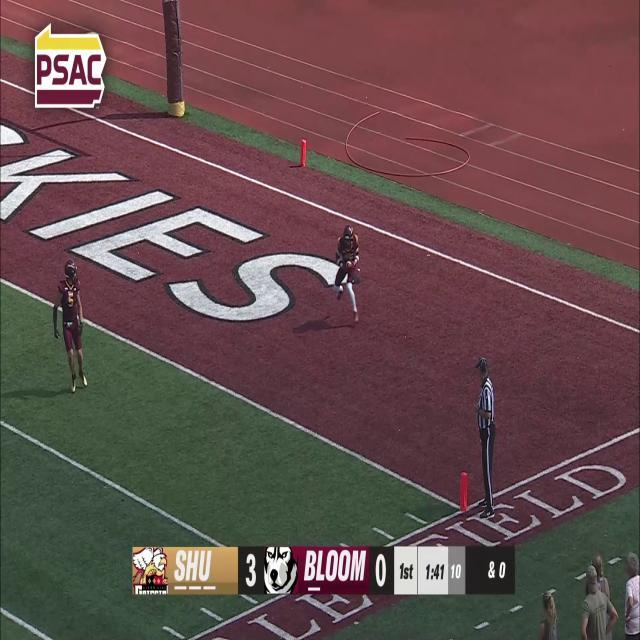football: (346, 261, 352, 271)
